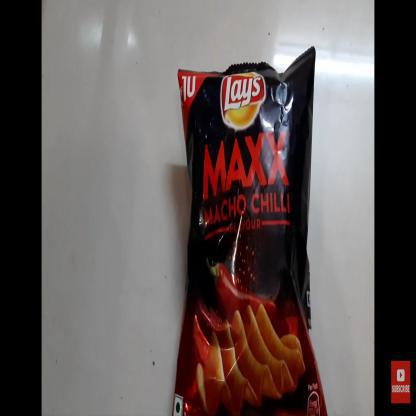max_chili: (172, 53, 328, 415)
